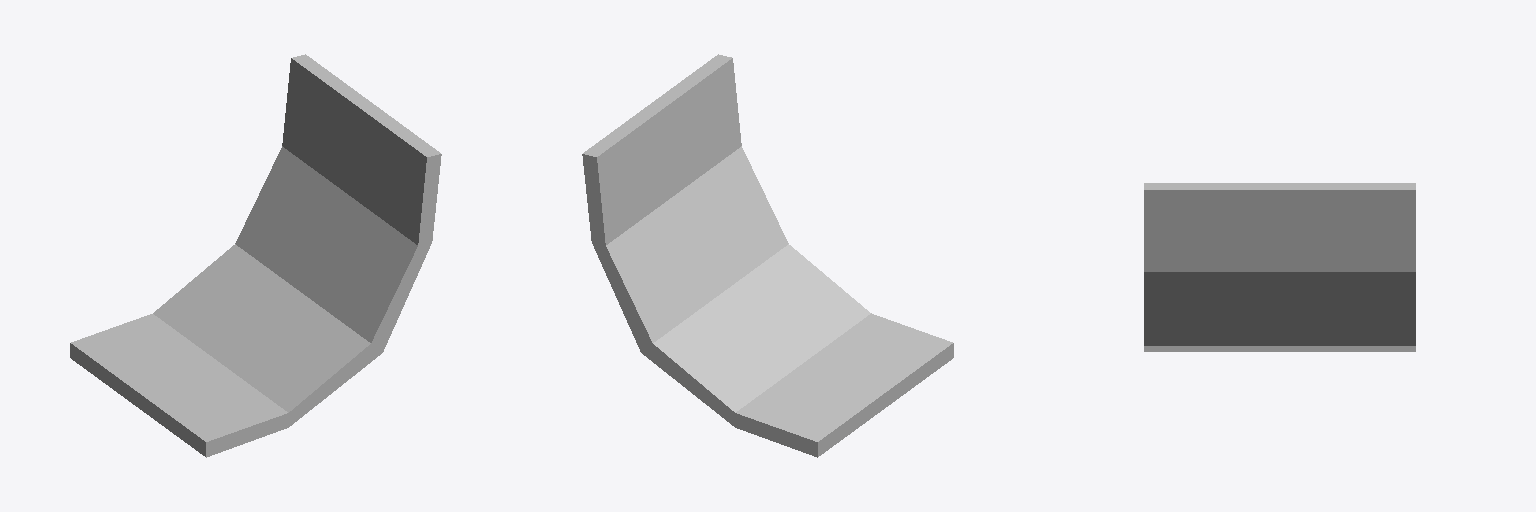
File: fuselage_21.obj
The picture shows the model from 3 angles: view 1: azimuth 30°, elevation 25°; view 2: azimuth 150°, elevation 25°; view 3: azimuth 270°, elevation 25°; orthographic projection.
Visible parts, largest first — view 1: bottom, front, right; view 2: bottom, back, right; view 3: left, bottom, top.
Boxes of the visible parts, x1,y1,x2,y2 form: bottom: [71, 54, 440, 441]; front: [206, 154, 441, 457]; right: [70, 343, 205, 456]; bottom: [583, 54, 952, 441]; back: [582, 154, 817, 457]; right: [818, 343, 953, 456]; left: [1144, 190, 1415, 345]; bottom: [1144, 183, 1415, 189]; top: [1144, 346, 1415, 351].
Bounding box in the file's own units: 1 × 1 × 1.